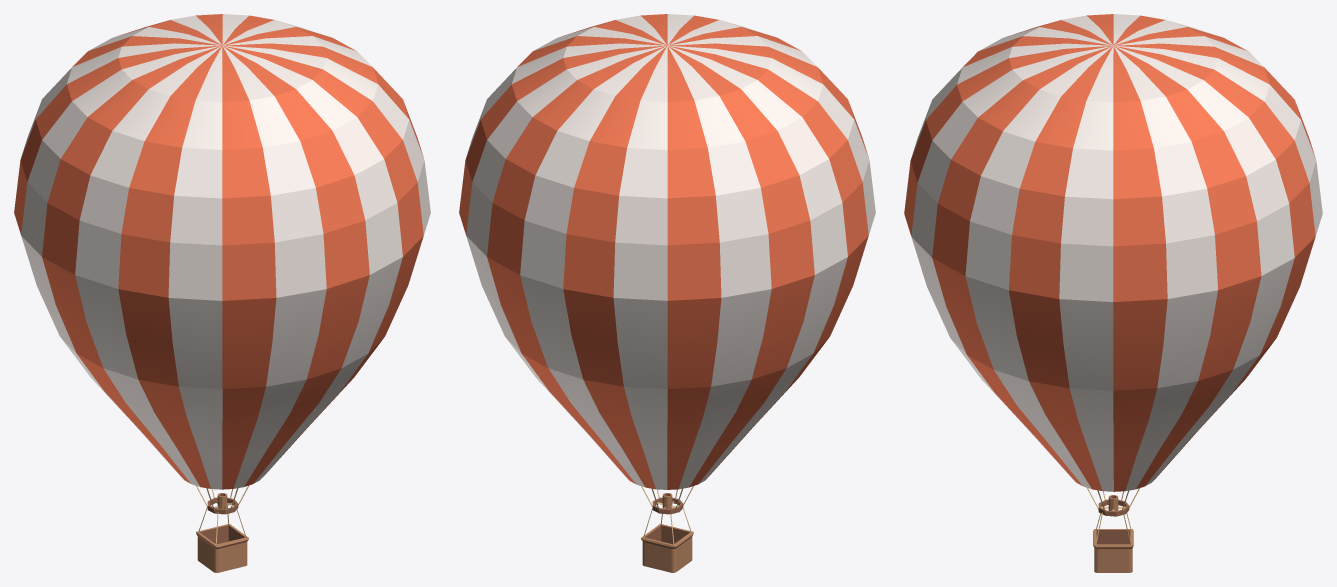
Rendered from airballoon.FBX.
3 renders of one model, left to right at view 1: azimuth 30°, elevation 25°; view 2: azimuth 150°, elevation 25°; view 3: azimuth 270°, elevation 25°, orthographic.
Parts seen in each view (by area): view 1: ChamferBox002; view 2: ChamferBox002; view 3: ChamferBox002.
Boxes of the visible parts, <box> form: ChamferBox002: <box>14,14,430,572</box>; ChamferBox002: <box>459,14,875,572</box>; ChamferBox002: <box>904,14,1322,572</box>.
Size of the model in its own units: 36.62 by 50.1 by 36.62.
1 material, 1 textured.
